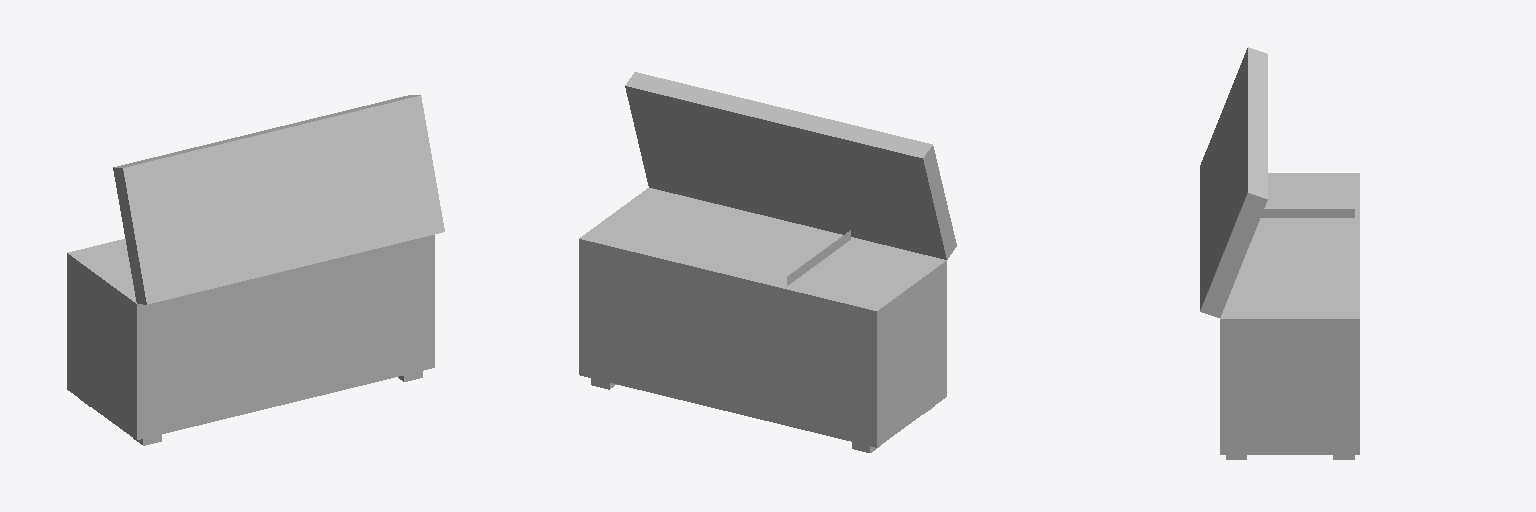
Rendered from freezer_opened.obj.
3 views of the same model, side by side, from view 1: azimuth 30°, elevation 25°; view 2: azimuth 150°, elevation 25°; view 3: azimuth 270°, elevation 25° (orthographic).
Visible parts, largest first — view 1: Block1, Block2; view 2: Block1, Block2, grade; view 3: Block1, Block2, grade.
Boxes of the visible parts, x1,y1,x2,y2 form: Block1: [67, 235, 434, 439]; Block2: [113, 95, 444, 304]; Block1: [579, 188, 946, 447]; Block2: [625, 72, 956, 259]; grade: [787, 230, 850, 285]; Block1: [1220, 173, 1359, 454]; Block2: [1200, 47, 1267, 317]; grade: [1261, 209, 1354, 217].
Bounding box in the file's own units: 2 × 1.74 × 0.93.